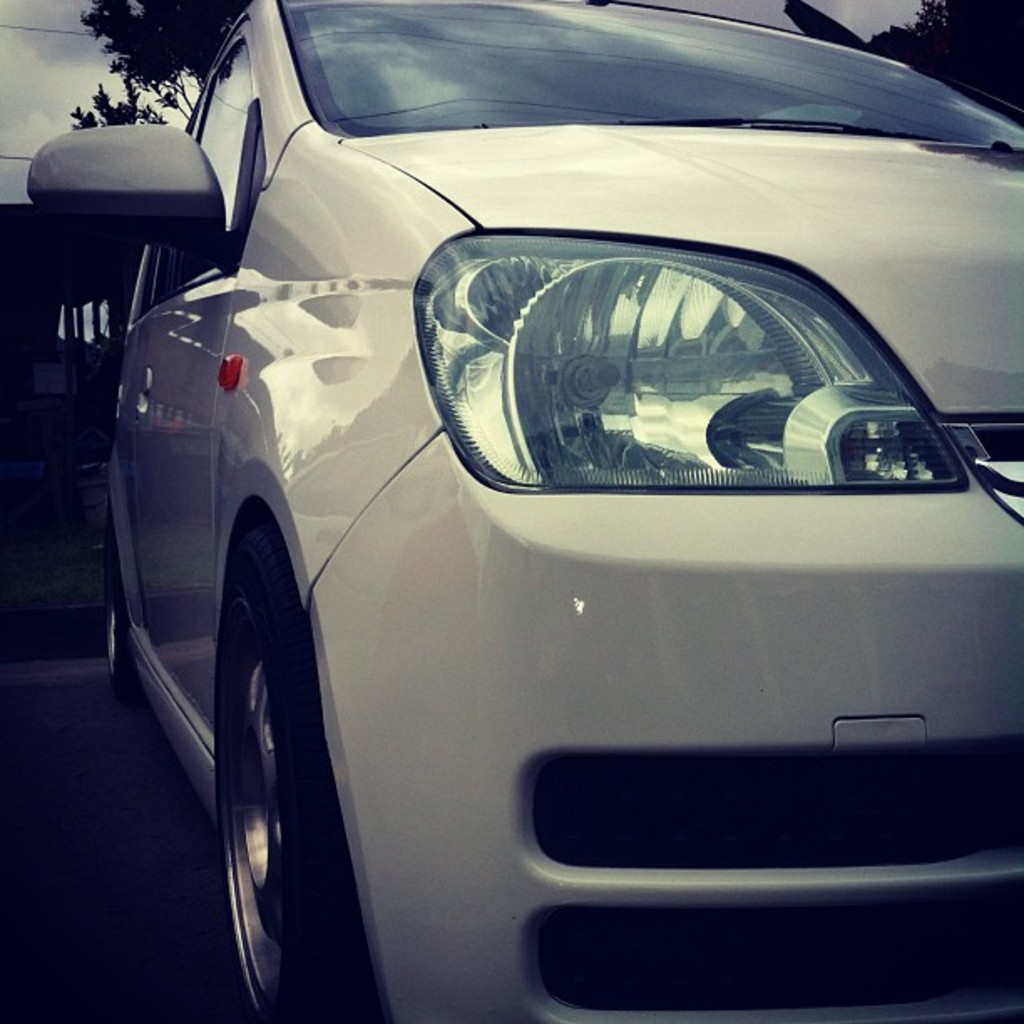Car: (16, 0, 1018, 1022)
